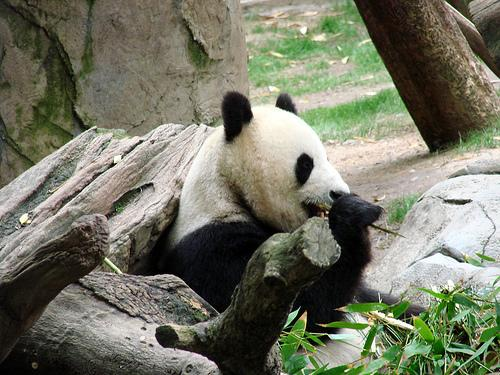panda: (156, 91, 381, 321)
